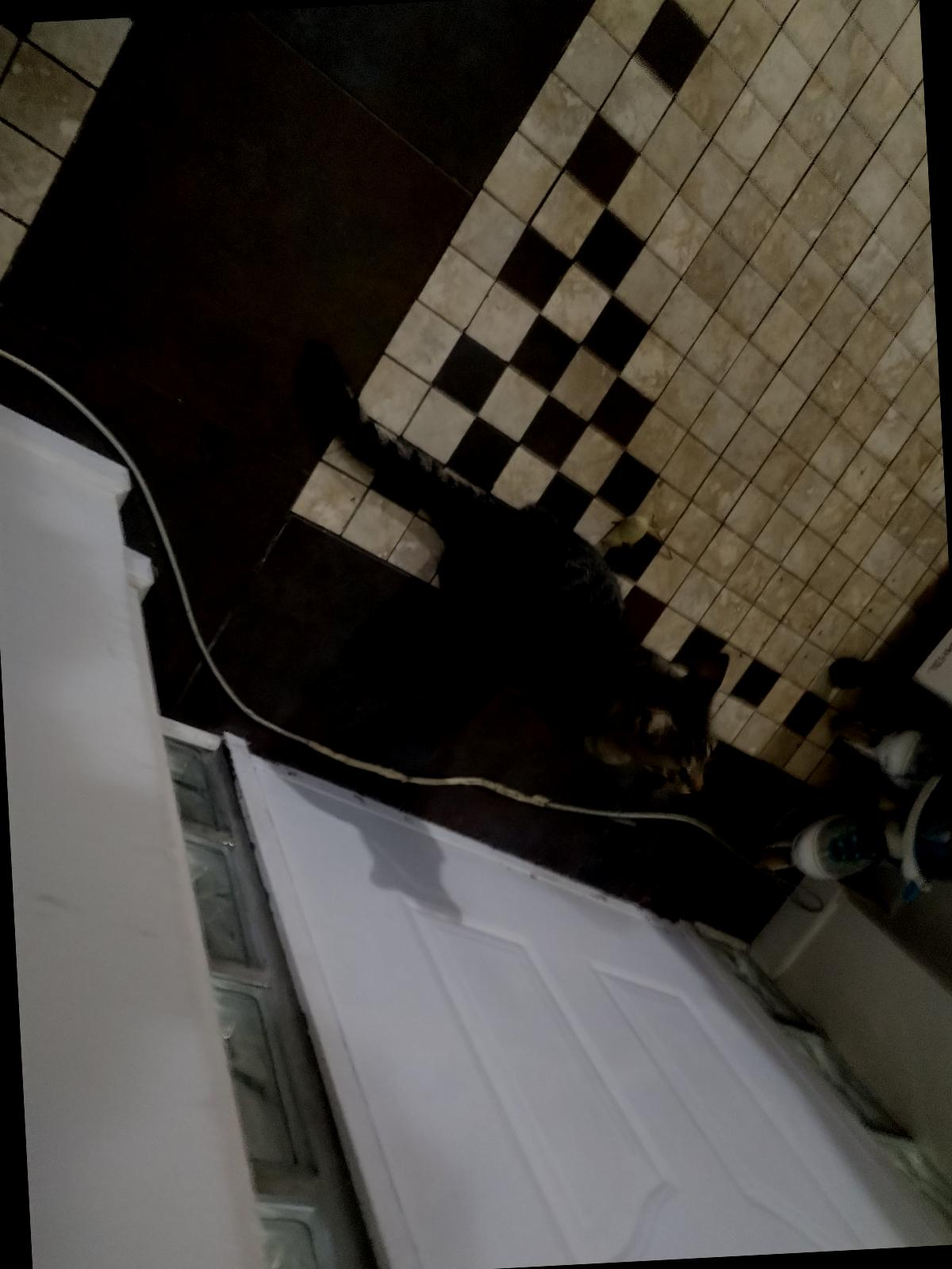macka: (299, 323, 738, 811)
